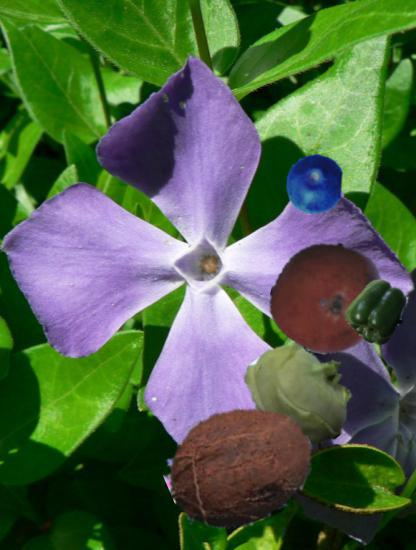Cocos: (166, 393, 315, 542)
Huckleberry: (284, 154, 345, 215)
Kohlrabi: (247, 337, 360, 450)
Pepper: (344, 279, 410, 345)
Pomegranate: (271, 242, 383, 354)
